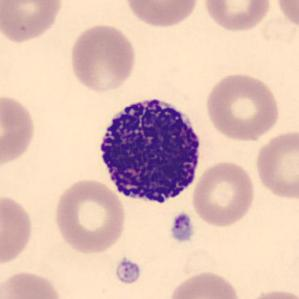Basophil: (92, 90, 206, 211)
Platelets: (169, 212, 195, 244), (114, 257, 142, 285)
RBC: (51, 176, 128, 256), (202, 70, 282, 143), (67, 21, 138, 94), (190, 158, 257, 228), (252, 127, 299, 202), (0, 91, 38, 169), (0, 0, 65, 45), (0, 191, 36, 268), (201, 0, 274, 34), (165, 268, 243, 299), (121, 0, 201, 29), (0, 268, 65, 299), (273, 0, 298, 33), (241, 287, 298, 299)
